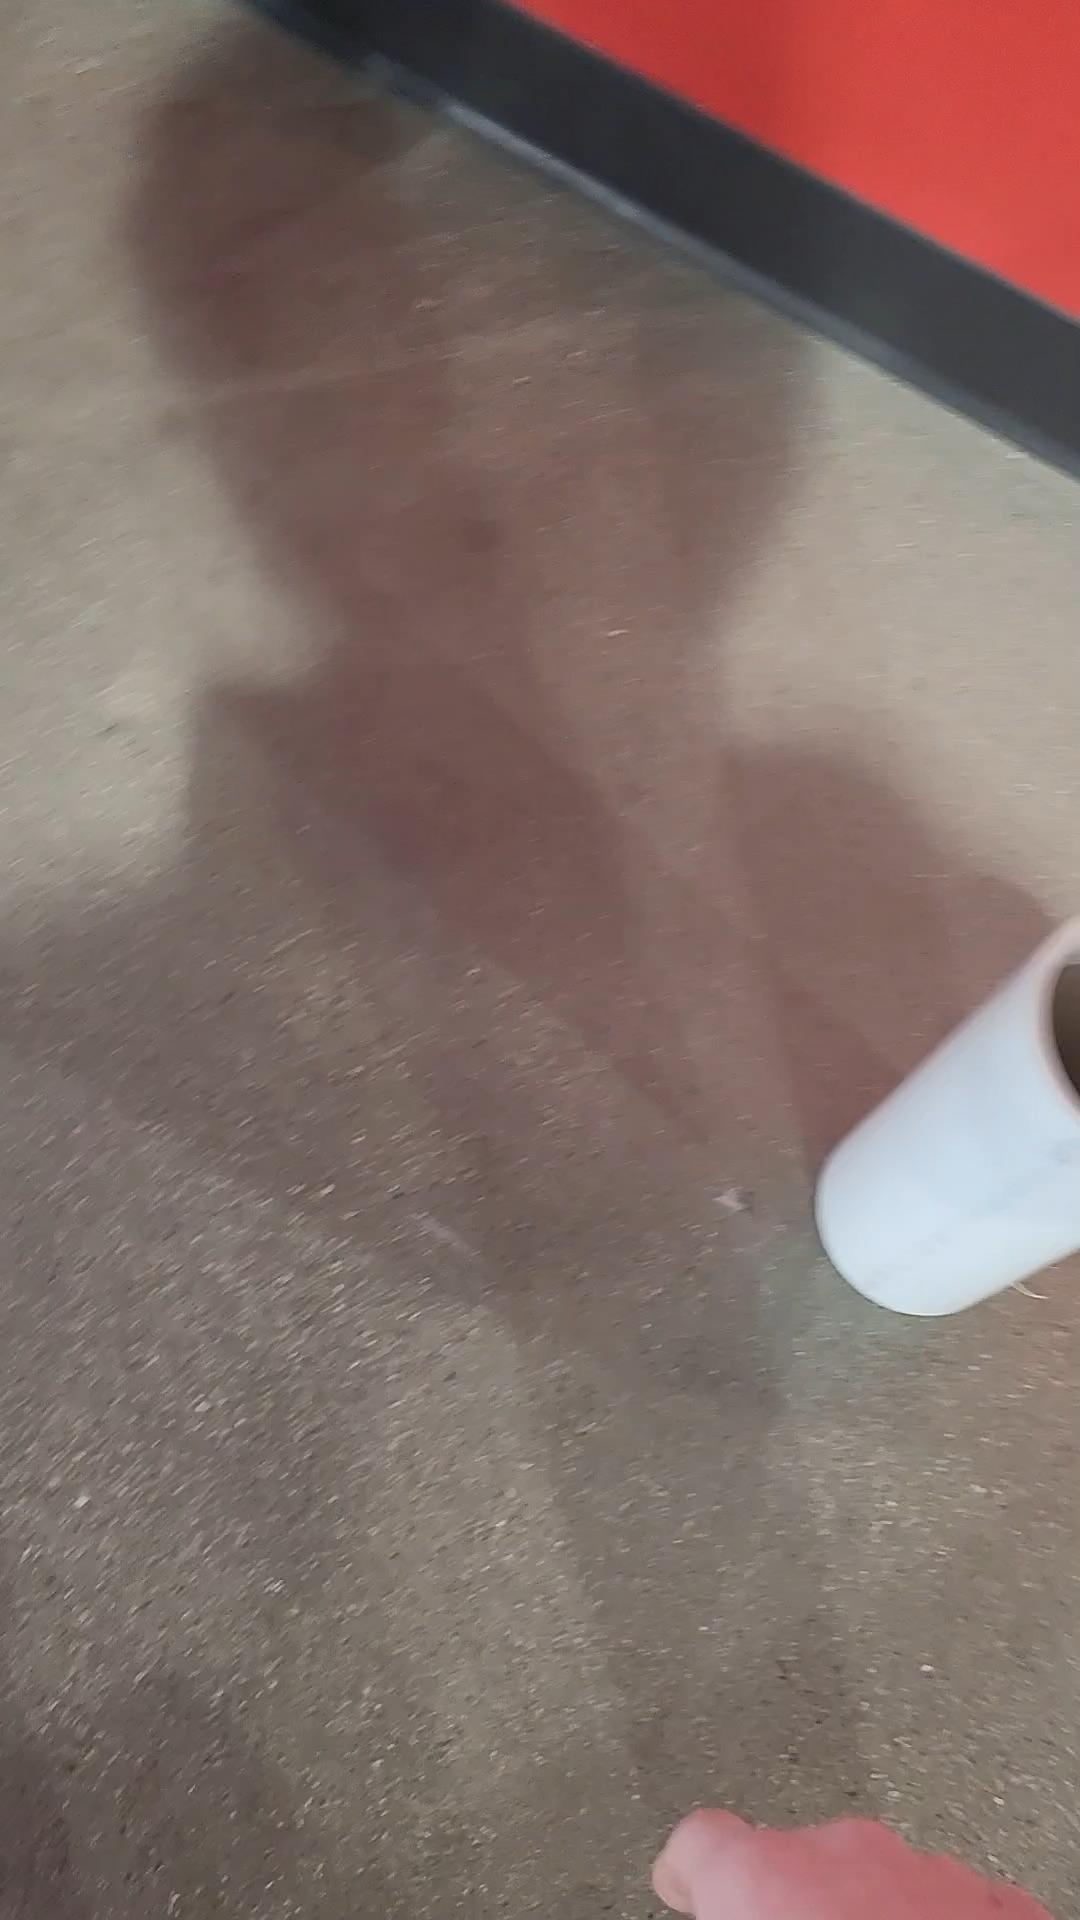coral: (807, 906, 1079, 1319)
